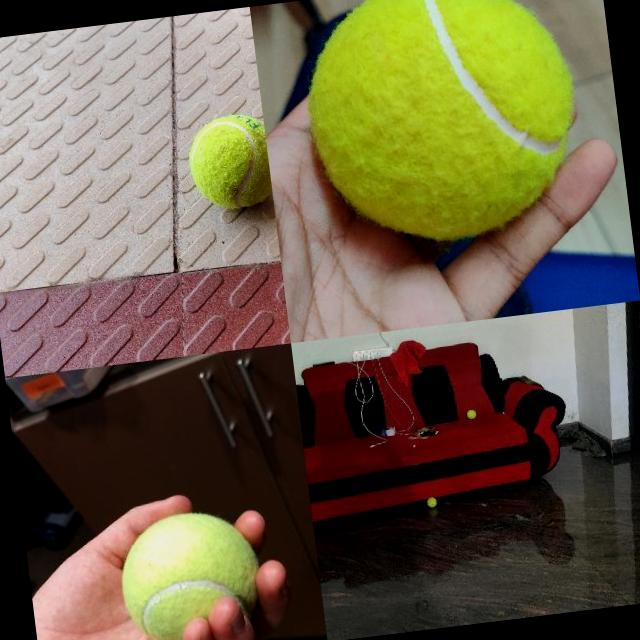tennis-ball: (295, 0, 586, 251), (113, 503, 268, 640), (182, 110, 272, 212), (465, 409, 476, 419), (426, 497, 436, 508)
